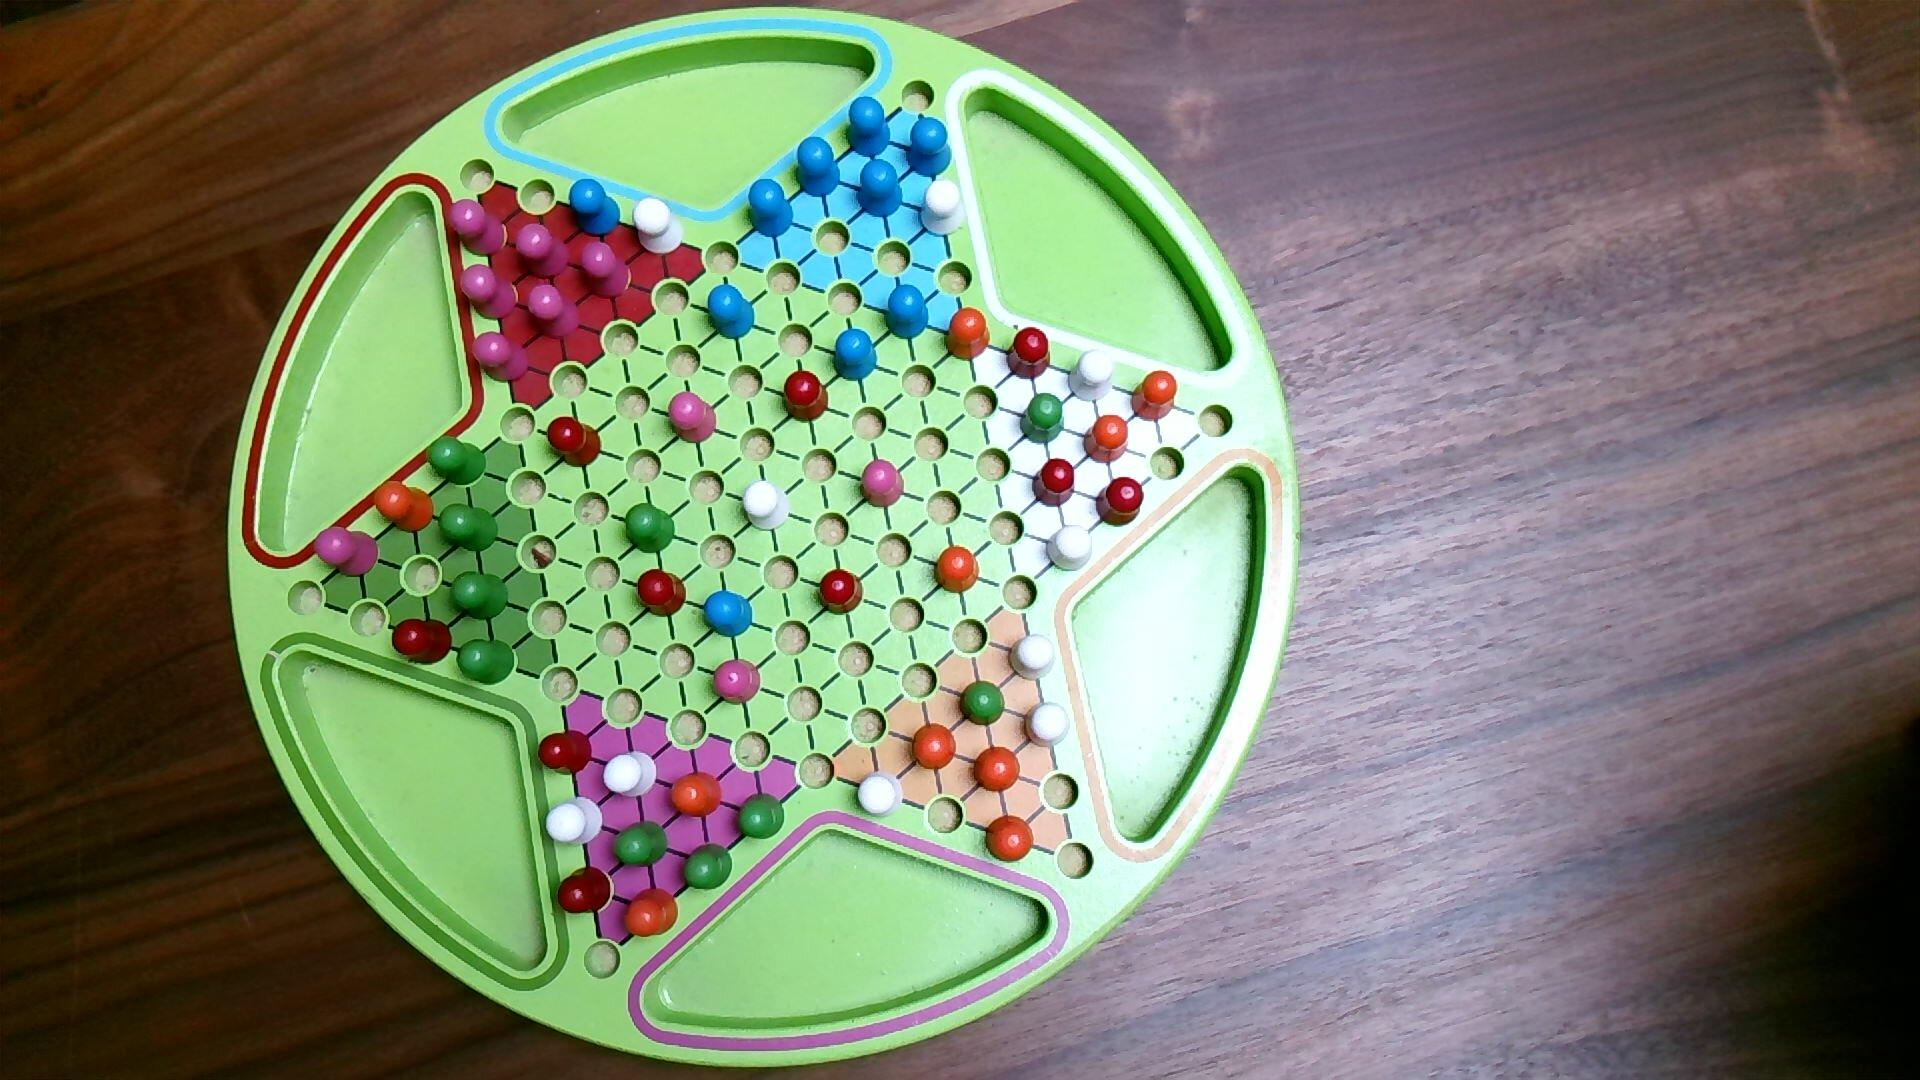B: (567, 178, 622, 240), (793, 136, 843, 200), (905, 115, 955, 179), (845, 95, 893, 160), (707, 284, 758, 342), (746, 178, 795, 239), (856, 158, 905, 219), (884, 284, 931, 342), (702, 589, 756, 640), (833, 328, 880, 384)
G: (425, 435, 489, 488), (448, 570, 512, 622), (436, 502, 500, 555), (611, 820, 670, 872), (456, 637, 517, 687), (622, 502, 678, 556), (1018, 392, 1067, 447), (680, 843, 735, 891), (736, 791, 786, 843), (957, 680, 1007, 728)
O: (373, 479, 436, 535), (622, 886, 680, 940), (669, 771, 725, 822), (943, 305, 992, 363), (1130, 369, 1180, 425), (984, 814, 1036, 865), (932, 545, 982, 596), (1083, 414, 1131, 465), (972, 745, 1022, 794), (910, 723, 957, 773)
R: (392, 616, 454, 669), (545, 415, 604, 469), (556, 865, 615, 916), (1005, 324, 1054, 382), (634, 568, 688, 620), (1095, 475, 1146, 529), (781, 369, 831, 425), (535, 729, 593, 775), (816, 567, 866, 617), (1031, 458, 1077, 510)
R2: (313, 525, 381, 580), (458, 262, 520, 323), (447, 198, 508, 258), (513, 222, 571, 281), (579, 239, 634, 301), (525, 284, 583, 342), (469, 331, 531, 385), (667, 390, 719, 446), (711, 657, 764, 708), (858, 458, 907, 512)
W: (545, 795, 605, 849), (632, 196, 684, 257), (919, 175, 967, 239), (601, 750, 658, 800), (1005, 632, 1058, 684), (853, 770, 906, 820), (1067, 349, 1116, 404), (1022, 700, 1073, 750), (742, 480, 791, 533), (1044, 524, 1095, 574)
